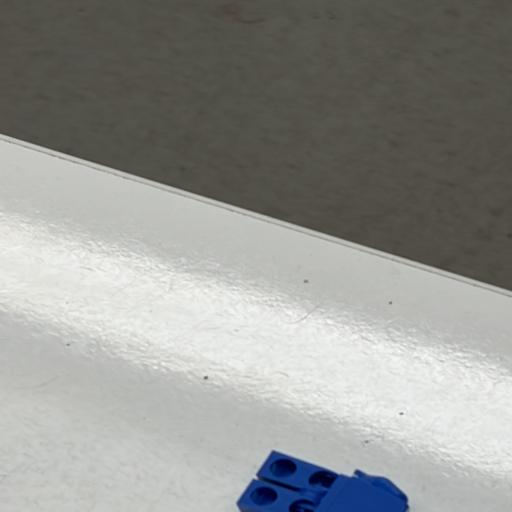Blue-Lego: (237, 451, 409, 512)
